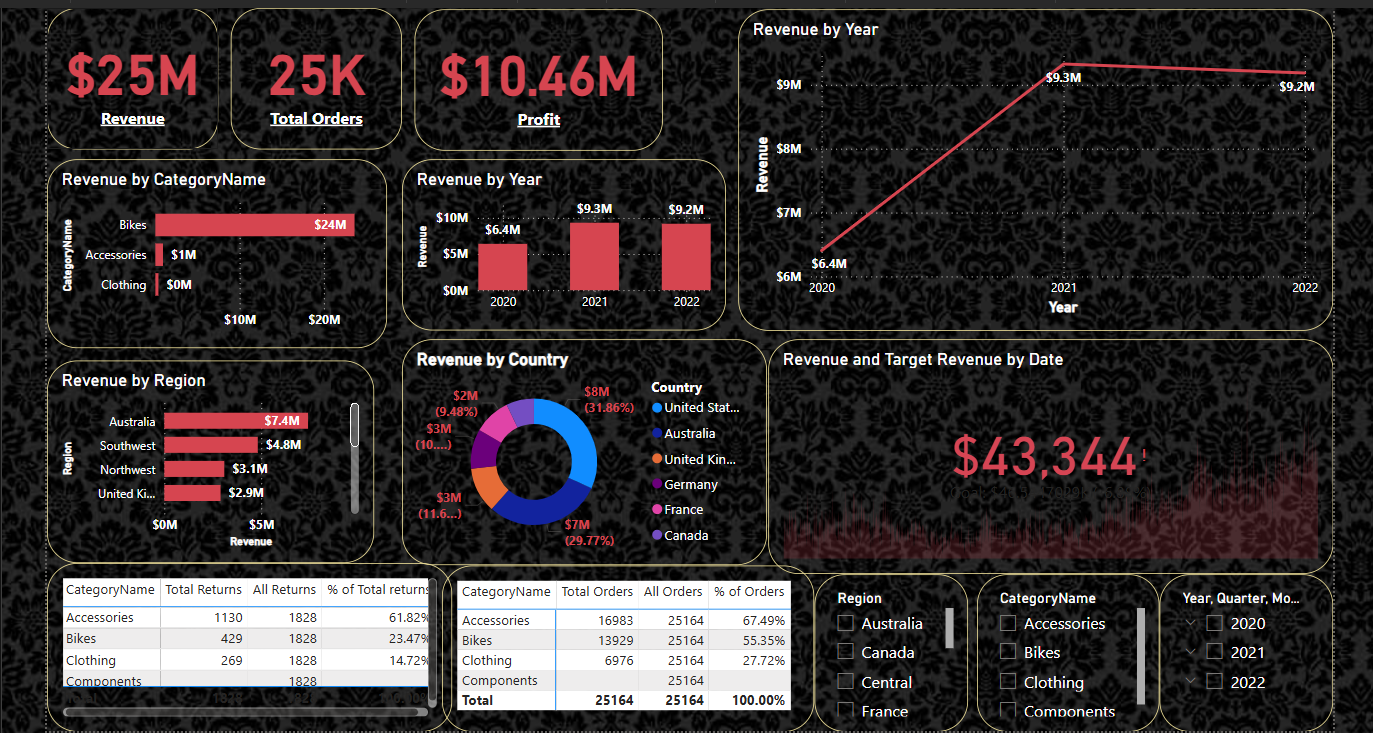

The page's visual inventory and layout, read from the dashboard file:
{"tool":"powerbi","page":{"name":"DashBoard","canvas":[1280,720],"ordinal":5},"visuals":[{"type":"card","fields":{"Values":["Measure Table (DAX).Revenue"]},"box":[0,0,170.4,140.6],"z":0},{"type":"card","fields":{"Values":["Measure Table (DAX).Profit"]},"box":[365.7,1.2,247.5,140.6],"z":1000},{"type":"card","fields":{"Values":["Measure Table (DAX).Total Orders"]},"box":[182.9,0,170.4,140.6],"z":2000},{"type":"clusteredBarChart","fields":{"Category":["Product Categories Lookup.CategoryName"],"Y":["Measure Table (DAX).Revenue"]},"box":[0,150.5,338.4,187.8],"z":3000},{"type":"clusteredBarChart","fields":{"Category":["Territory Lookup.Region"],"Y":["Measure Table (DAX).Revenue"]},"box":[0,350.8,325.9,201.5],"z":4000},{"type":"clusteredColumnChart","fields":{"Y":["Measure Table (DAX).Revenue"],"Category":["Calendar Lookup.Date.Variation.Date Hierarchy.Year"]},"box":[353.3,150.5,322.2,170.4],"z":5000},{"type":"lineChart","fields":{"Category":["Calendar Lookup.Date.Variation.Date Hierarchy.Year","Calendar Lookup.Date.Variation.Date Hierarchy.Quarter","Calendar Lookup.Date.Variation.Date Hierarchy.Month","Calendar Lookup.Date.Variation.Date Hierarchy.Day"],"Y":["Measure Table (DAX).Revenue"]},"box":[687.9,1.2,592.1,319.7],"z":6000},{"type":"donutChart","fields":{"Y":["Measure Table (DAX).Revenue"],"Category":["Territory Lookup.Country"]},"box":[353.3,329.6,363.2,225.2],"z":7000},{"type":"tableEx","fields":{"Values":["Product Categories Lookup.CategoryName","Measure Table (DAX).Total Returns","Measure Table (DAX).All Returns","Measure Table (DAX).% of Total returns"]},"box":[0,552.3,403,167.9],"z":7001},{"type":"pivotTable","fields":{"Rows":["Product Categories Lookup.CategoryName"],"Values":["Measure Table (DAX).Total Orders","Measure Table (DAX).All Orders","Measure Table (DAX).% of Orders"]},"box":[393.1,554.8,370.7,165.4],"z":7002},{"type":"kpi","fields":{"Indicator":["Measure Table (DAX).Revenue"],"Goal":["Measure Table (DAX).Target Revenue"],"TrendLine":["Calendar Lookup.Date"]},"box":[717.8,329.6,562.3,233.9],"z":7003},{"type":"slicer","fields":{"Values":["Territory Lookup.Region"]},"box":[763.8,563.5,153,156.7],"z":7004},{"type":"slicer","fields":{"Values":["Product Categories Lookup.CategoryName"]},"box":[925.5,563.5,181.6,156.7],"z":7005},{"type":"slicer","fields":{"Values":["Calendar Lookup.Date.Variation.Date Hierarchy.Year","Calendar Lookup.Date.Variation.Date Hierarchy.Quarter","Calendar Lookup.Date.Variation.Date Hierarchy.Month","Calendar Lookup.Date.Variation.Date Hierarchy.Day"]},"box":[1107.1,563.5,172.9,156.7],"z":7006}]}

Visuals, with their boxes on the page's 1280x720 design canvas (x1, y1, x2, y2). These are canvas units, not pixel positions in the 1373x733 screenshot, which may show the page scaled, cropped or inside an application window:
card - Measure Table (DAX).Revenue: bbox=(0, 0, 170, 141)
card - Measure Table (DAX).Profit: bbox=(366, 1, 613, 142)
card - Measure Table (DAX).Total Orders: bbox=(183, 0, 353, 141)
clusteredBarChart - Product Categories Lookup.CategoryName x Measure Table (DAX).Revenue: bbox=(0, 150, 338, 338)
clusteredBarChart - Territory Lookup.Region x Measure Table (DAX).Revenue: bbox=(0, 351, 326, 552)
clusteredColumnChart - Measure Table (DAX).Revenue x Calendar Lookup.Date.Variation.Date Hierarchy.Year: bbox=(353, 150, 676, 321)
lineChart - Calendar Lookup.Date.Variation.Date Hierarchy.Year x Calendar Lookup.Date.Variation.Date Hierarchy.Quarter: bbox=(688, 1, 1280, 321)
donutChart - Measure Table (DAX).Revenue x Territory Lookup.Country: bbox=(353, 330, 716, 555)
tableEx - Product Categories Lookup.CategoryName x Measure Table (DAX).Total Returns: bbox=(0, 552, 403, 720)
pivotTable - Product Categories Lookup.CategoryName x Measure Table (DAX).Total Orders: bbox=(393, 555, 764, 720)
kpi - Measure Table (DAX).Revenue x Measure Table (DAX).Target Revenue: bbox=(718, 330, 1280, 564)
slicer - Territory Lookup.Region: bbox=(764, 564, 917, 720)
slicer - Product Categories Lookup.CategoryName: bbox=(926, 564, 1107, 720)
slicer - Calendar Lookup.Date.Variation.Date Hierarchy.Year x Calendar Lookup.Date.Variation.Date Hierarchy.Quarter: bbox=(1107, 564, 1280, 720)
